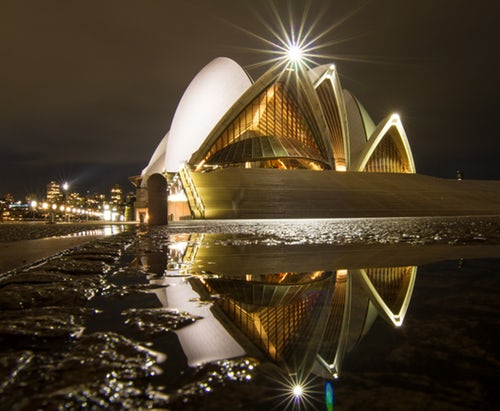opera house: (105, 29, 444, 181)
